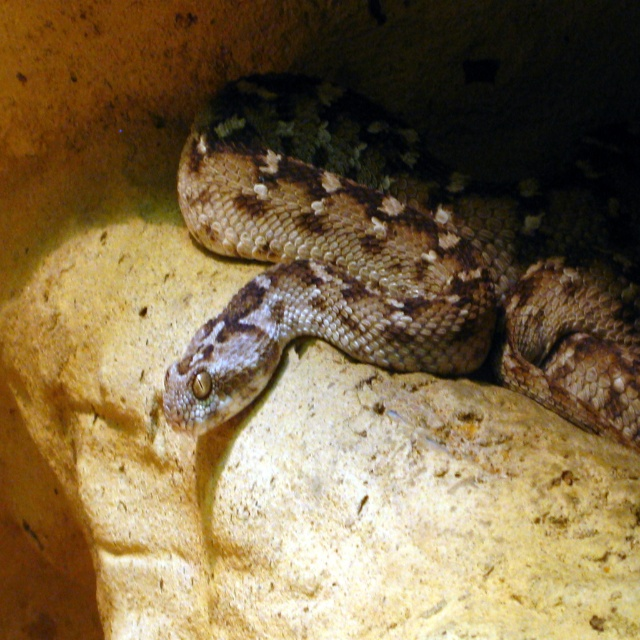Snake: (164, 69, 640, 451)
